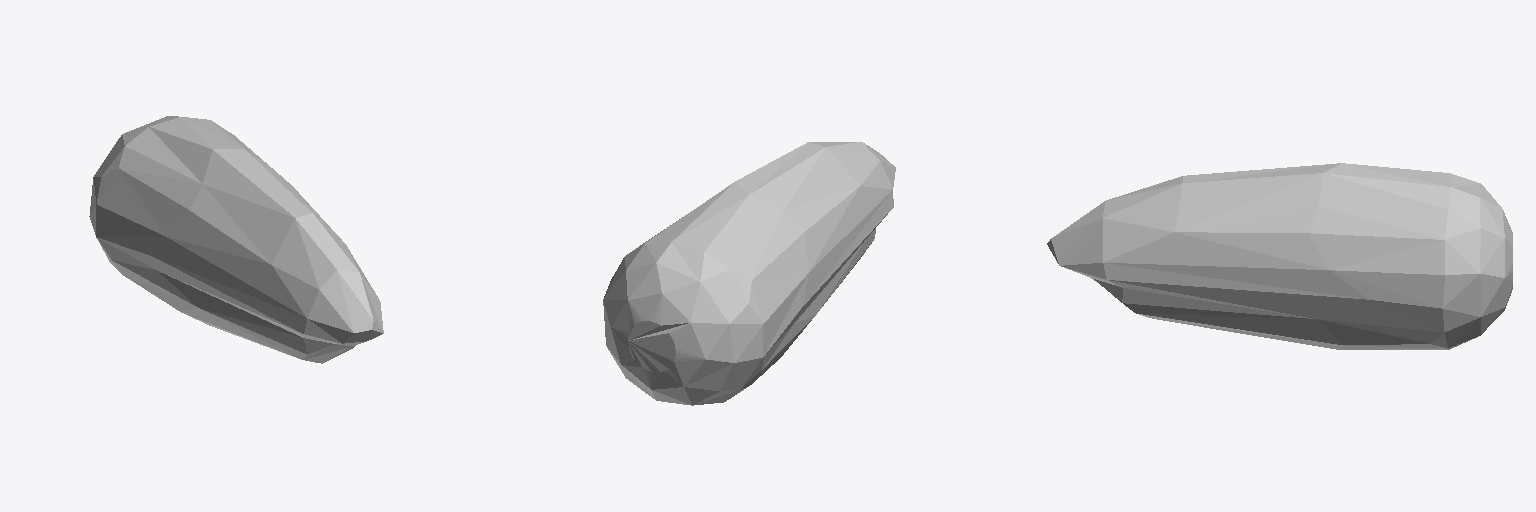
Rendered from boidHeadMed.obj.
The picture shows the model from 3 angles: view 1: azimuth 30°, elevation 25°; view 2: azimuth 150°, elevation 25°; view 3: azimuth 270°, elevation 25°; orthographic projection.
Visible parts, largest first — view 1: Cylinder1_default; view 2: Cylinder1_default; view 3: Cylinder1_default.
Part boxes in pixels (left/top/right/bottom): Cylinder1_default: left=89, top=116, right=383, bottom=363; Cylinder1_default: left=603, top=142, right=895, bottom=405; Cylinder1_default: left=1047, top=163, right=1512, bottom=349.
Bounding box in the file's own units: 0.6549 × 0.7117 × 1.71.